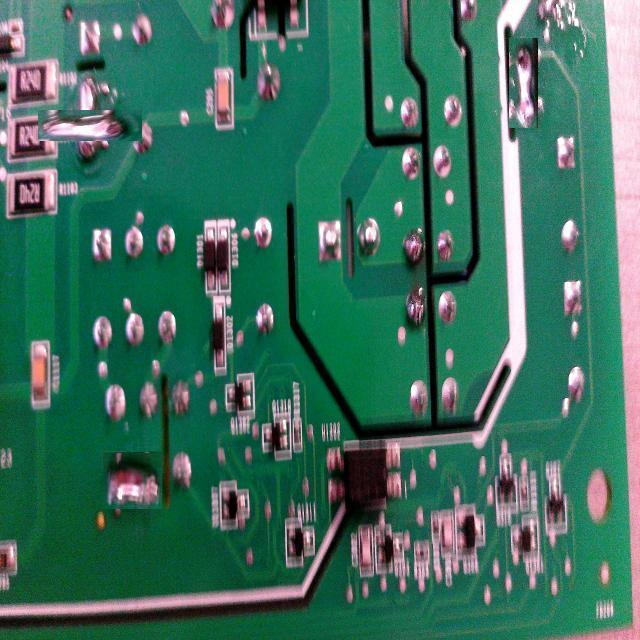Short_circuit: (56, 91, 125, 159), (102, 452, 162, 509), (510, 38, 540, 128)
